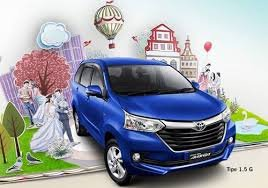mobil: (73, 56, 237, 181)
